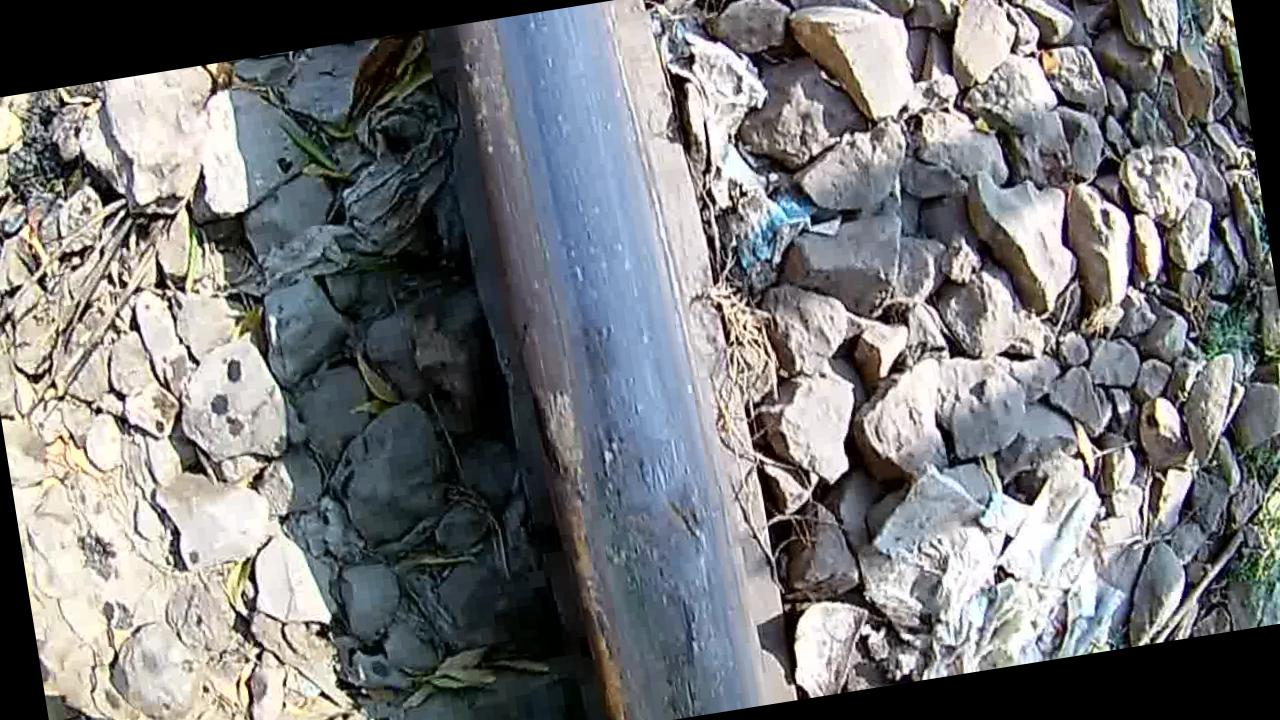bolt_missing: (521, 268, 752, 720)
